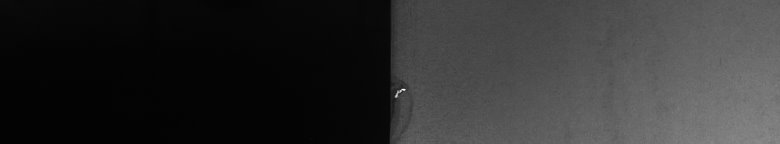hb: (400, 77, 416, 133)
